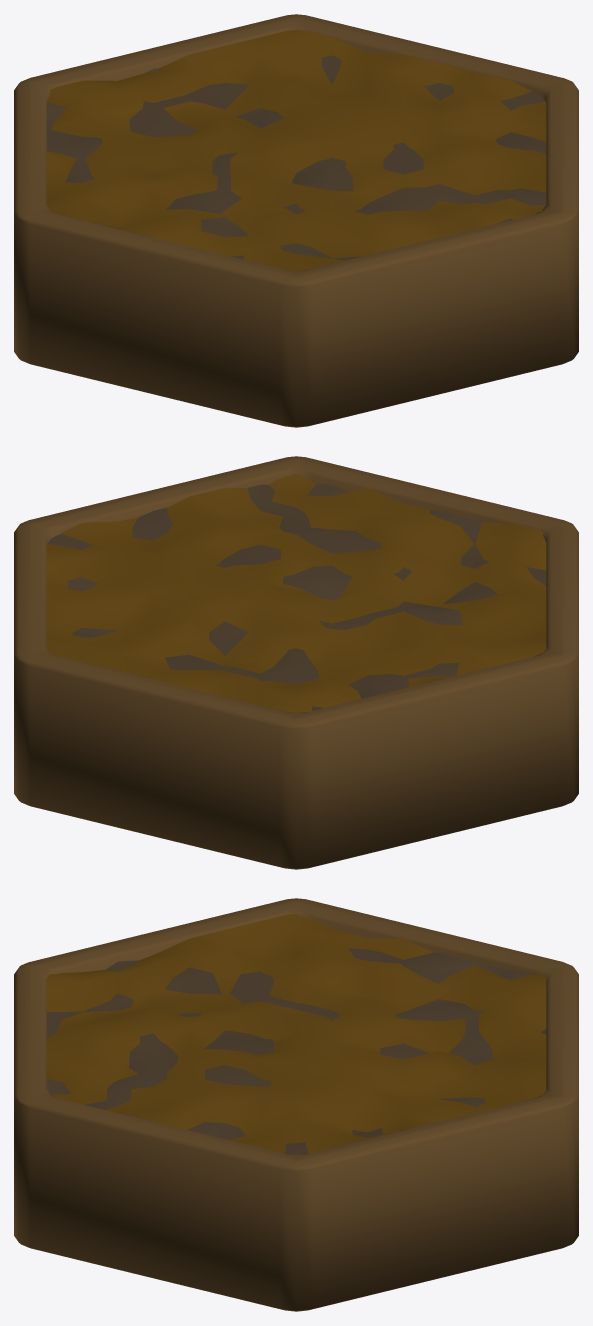
File: dirthex1.fbx
3 renders of one model, top to bottom at view 1: azimuth 30°, elevation 25°; view 2: azimuth 150°, elevation 25°; view 3: azimuth 270°, elevation 25°, orthographic.
Parts seen in each view (by area): view 1: Cylinder, Cylinder.001, Cylinder.002; view 2: Cylinder, Cylinder.001, Cylinder.002; view 3: Cylinder, Cylinder.001, Cylinder.002.
Boxes of the visible parts, x1=… form: Cylinder: x1=14, y1=14, x2=578, y2=427; Cylinder.001: x1=46, y1=30, x2=546, y2=270; Cylinder.002: x1=46, y1=55, x2=546, y2=269; Cylinder: x1=14, y1=456, x2=578, y2=869; Cylinder.001: x1=46, y1=474, x2=546, y2=712; Cylinder.002: x1=47, y1=484, x2=546, y2=711; Cylinder: x1=14, y1=898, x2=578, y2=1311; Cylinder.001: x1=46, y1=914, x2=546, y2=1153; Cylinder.002: x1=46, y1=948, x2=546, y2=1154.
Size of the model in its own units: 197 by 50 by 173.
